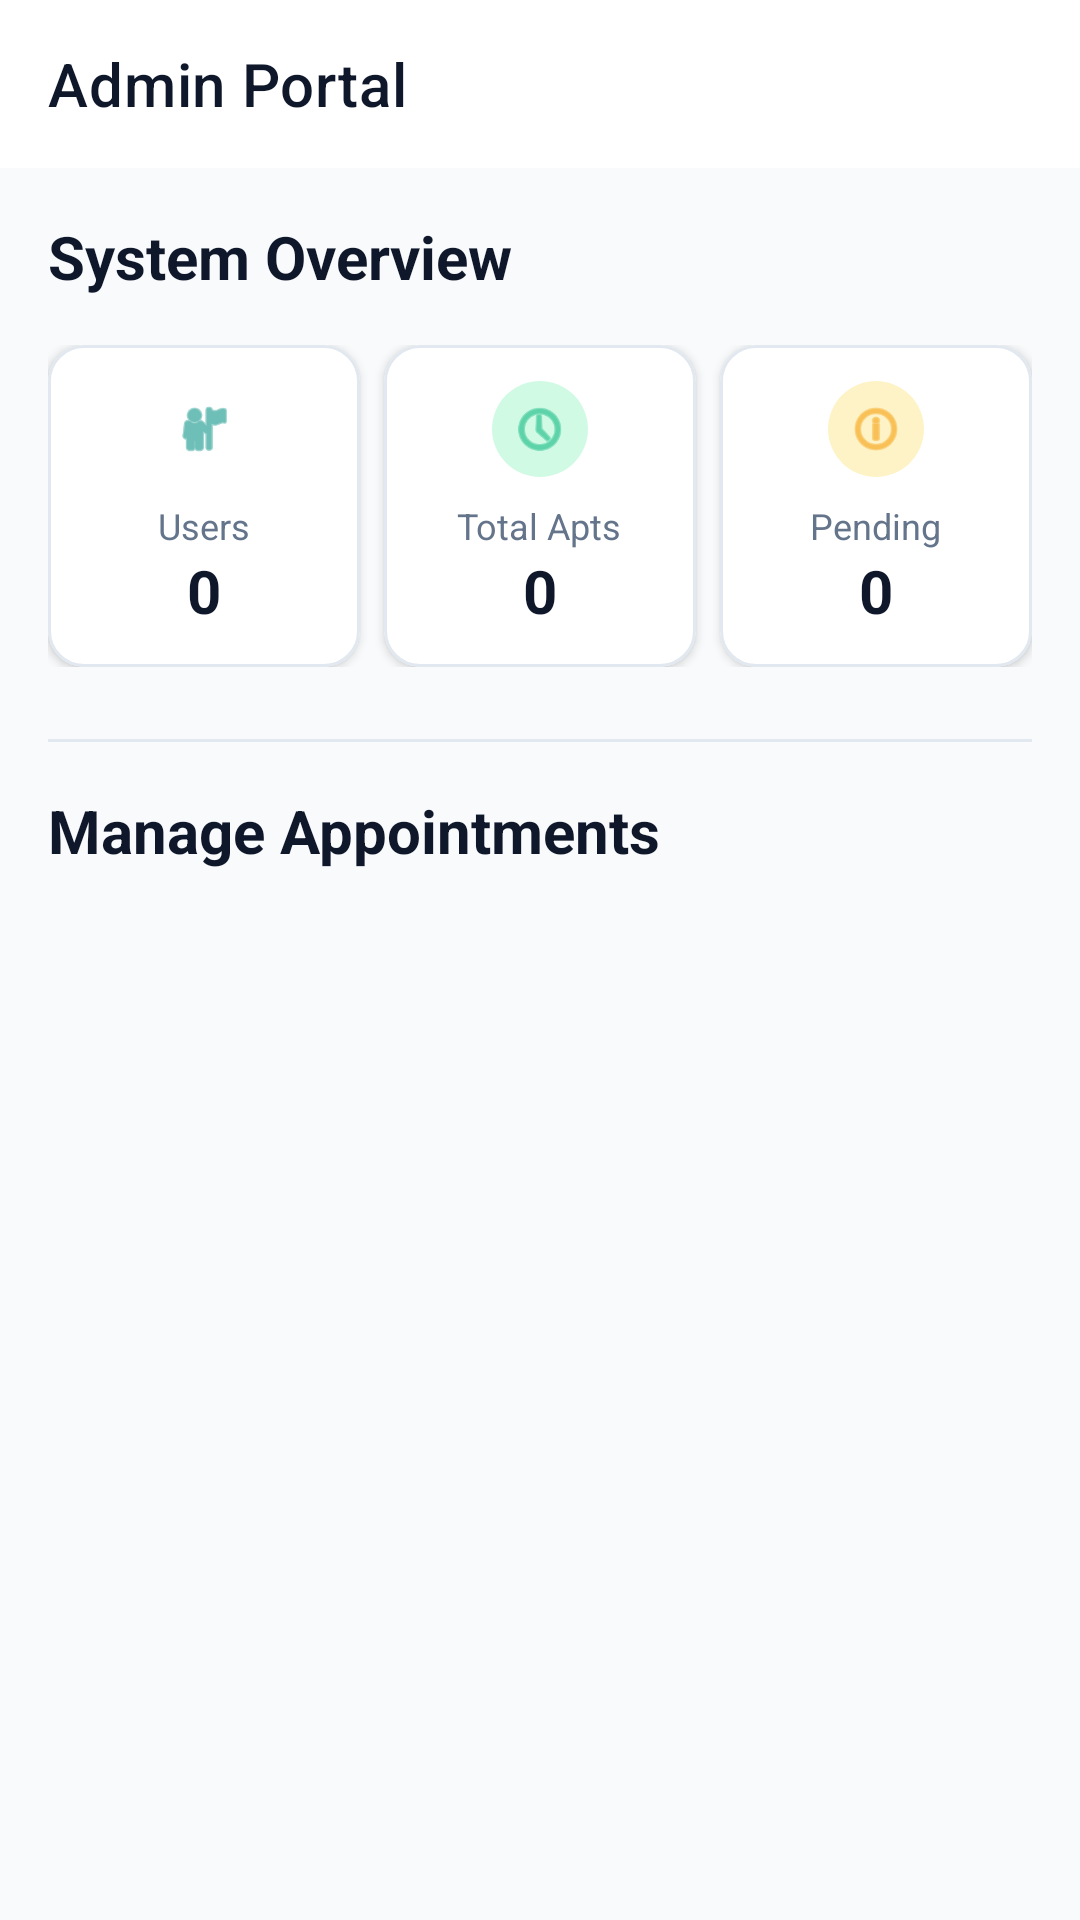

Named icons in this screenshot (1080×1920) and their centers, [x,y]:
info details: [876,429]
myplaces: [204,429]
recent history: [540,429]
